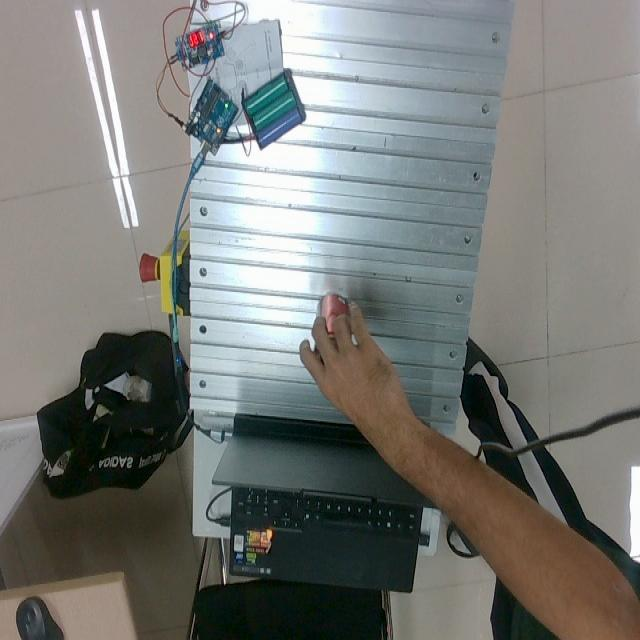coca: (315, 293, 353, 377)
